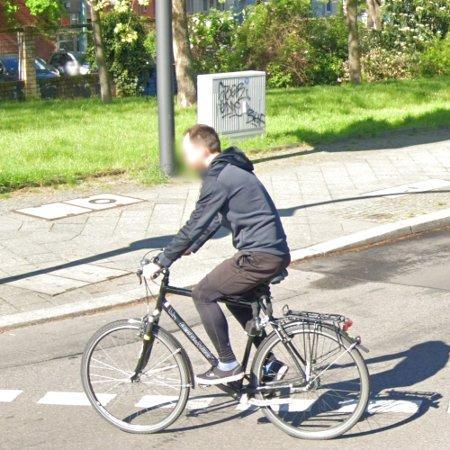bicycles: (81, 252, 370, 441)
